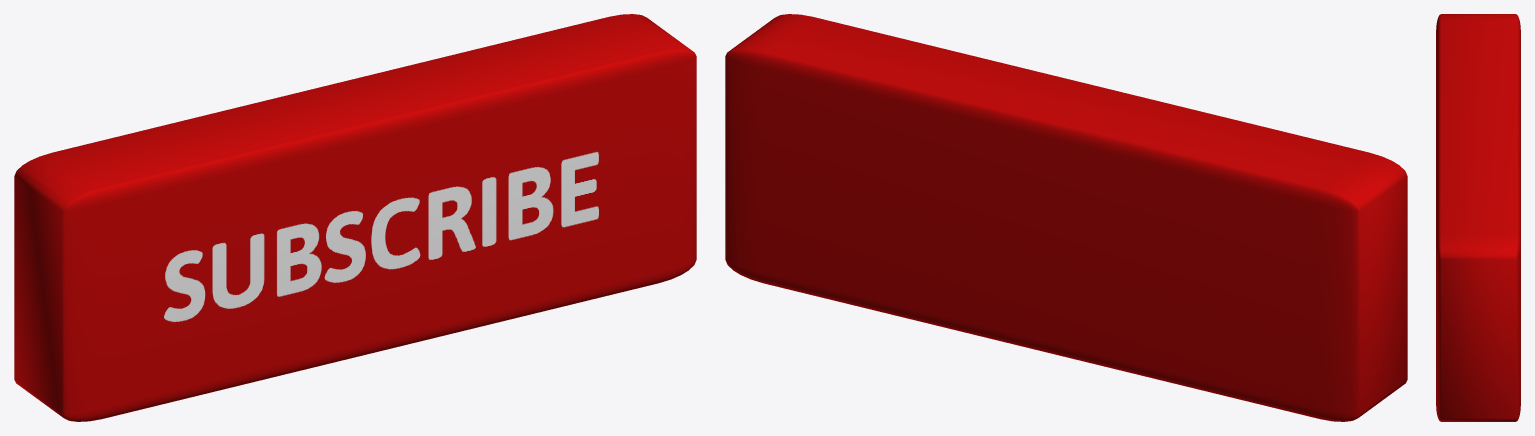
File: SubscribeButton.fbx
The picture shows the model from 3 angles, left to right: view 1: azimuth 30°, elevation 25°; view 2: azimuth 150°, elevation 25°; view 3: azimuth 270°, elevation 25°; orthographic projection. The views are drawn at different scales.
Parts seen in each view (by area): view 1: Cube; view 2: Cube; view 3: Cube.
Part boxes in pixels (x1,y1,x2,y2): Cube: [14, 14, 696, 421]; Cube: [725, 14, 1407, 421]; Cube: [1436, 14, 1520, 421].
Bounding box in the file's own units: 261 × 90.91 × 38.73.
